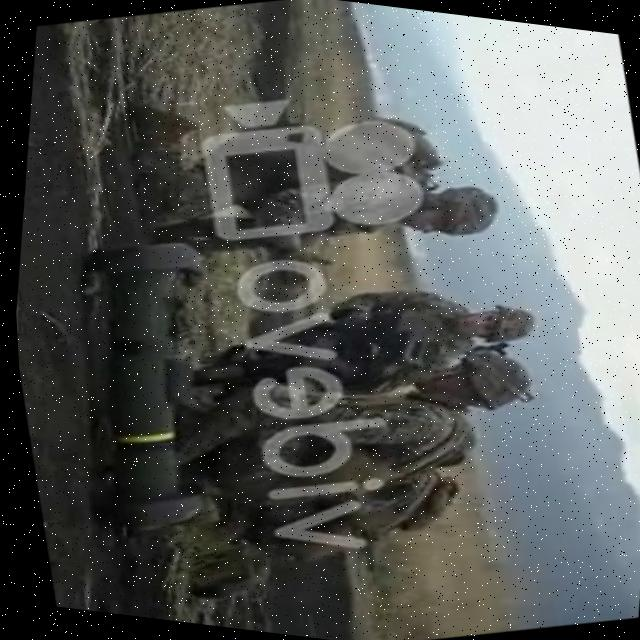rocket: (16, 215, 271, 550)
